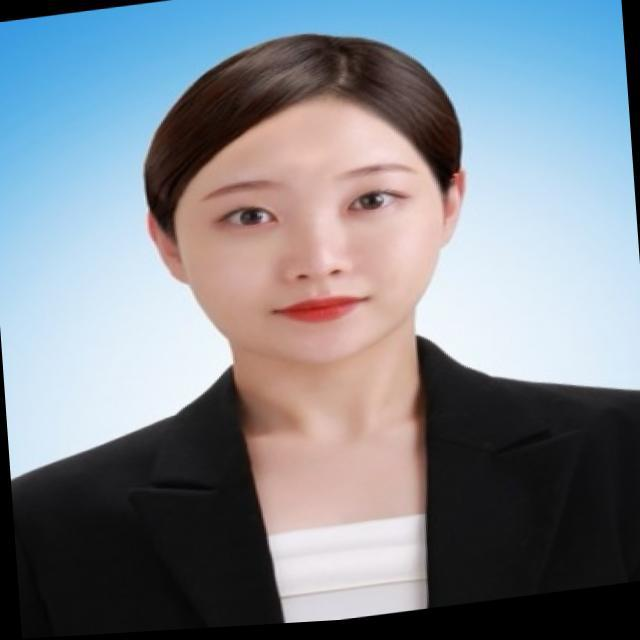Nonhelmet: (138, 29, 471, 368)
